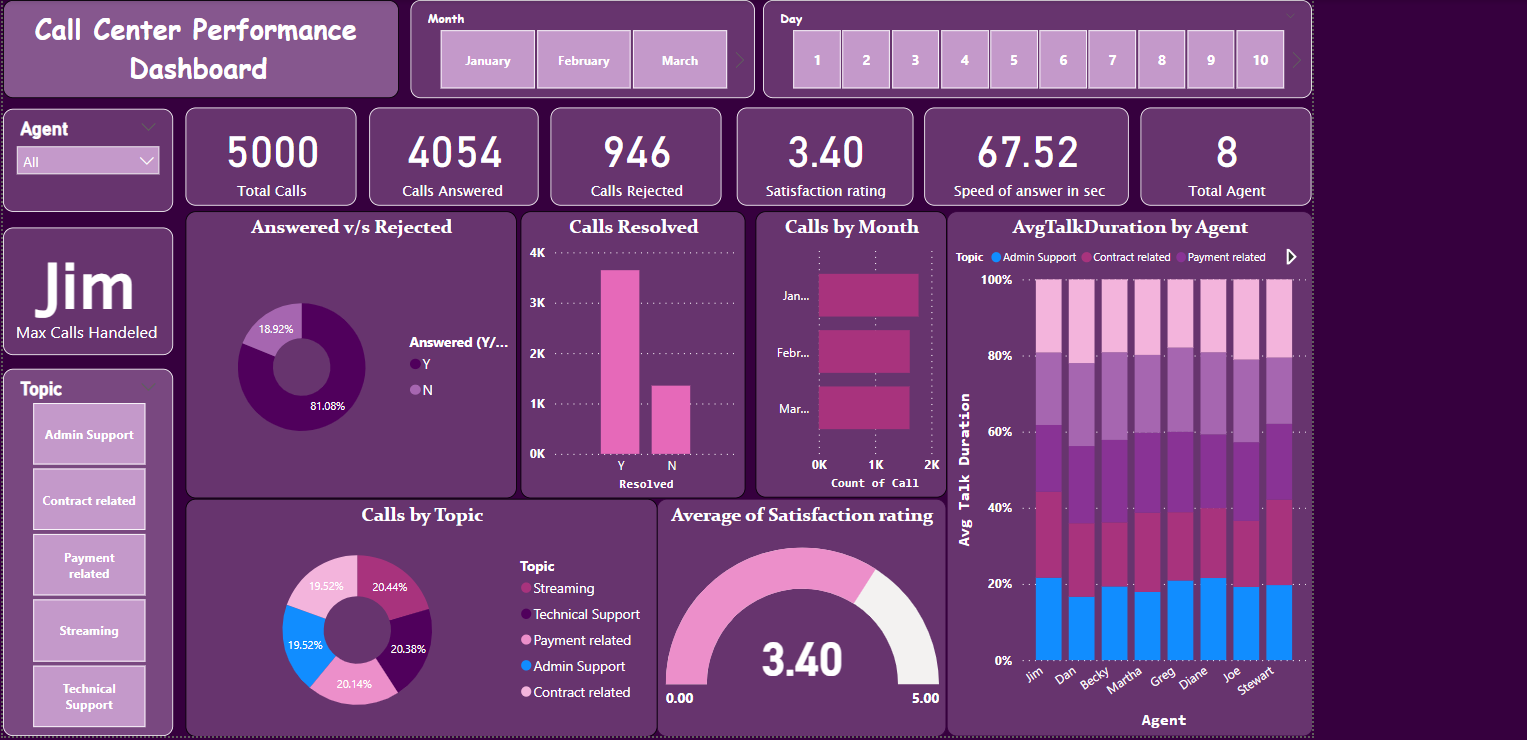

What the dashboard file says about the page in this screenshot:
{"tool":"powerbi","page":{"name":"Page 1","canvas":[1280,720],"ordinal":0},"visuals":[{"type":"textbox","box":[0,0,387.1,95.7],"z":0},{"type":"card","fields":{"Values":["Sheet1.Call Id"]},"box":[178.6,105.7,167.1,95.7],"z":1000},{"type":"card","fields":{"Values":["Sheet1.Agent"]},"box":[1112.9,105.7,167.1,95.7],"z":2000},{"type":"card","fields":{"Values":["Sheet1.Satisfaction rating"]},"box":[717.1,105.7,172.9,95.7],"z":3000},{"type":"card","fields":{"Values":["Sheet1.Speed of answer in seconds"]},"box":[901.4,105.7,200,95.7],"z":4000},{"type":"card","fields":{"Values":["Sheet1.Count of Call Id for Y"]},"box":[358.6,105.7,165.7,95.7],"z":5000},{"type":"gauge","fields":{"Y":["Sheet1.Satisfaction rating"]},"box":[639.5,487.2,283.1,232.8],"z":6000},{"type":"pieChart","title":"Answered v/s Rejected ","fields":{"Y":["Sheet1.Answered (Y/N)"],"Category":["Sheet1.Answered (Y/N)"]},"box":[178.2,206.9,346.3,280.2],"z":7000},{"type":"columnChart","title":"Calls Resolved ","fields":{"Category":["Sheet1.Resolved"],"Y":["Sheet1.Call Id"]},"box":[524.6,206.9,211.3,280.2],"z":8000},{"type":"slicer","fields":{"Values":["Sheet1.Topic"]},"box":[0,360.7,166.7,359.3],"z":9000},{"type":"slicer","fields":{"Values":["Sheet1.Agent"]},"box":[0,106.3,166.7,100.6],"z":10000},{"type":"lineChart","title":" Speed of answer by Agent","fields":{"Y":["Sheet1.Speed of answer in seconds"],"Category":["Sheet1.Agent"]},"box":[922.6,206.9,357.8,280.2],"z":11000},{"type":"slicer","fields":{"Values":["Sheet1.Date.Variation.Date Hierarchy.Month"]},"box":[398.6,0,337.1,95.7],"z":12000},{"type":"card","fields":{"Values":["Sheet1.Count of Call Id for N"]},"box":[535.7,105.7,167.1,95.7],"z":13000},{"type":"slicer","fields":{"Values":["Sheet1.Date.Variation.Date Hierarchy.Day"]},"box":[742.9,0,537.1,95.7],"z":14000},{"type":"card","fields":{"Values":["Sheet1.First Agent max per AvgTalkDuration"]},"box":[0,222.8,166.7,125],"z":15000},{"type":"hundredPercentStackedColumnChart","title":"AvgTalkDuration by Agent","fields":{"Category":["Sheet1.Agent"],"Y":["Sheet1.AvgTalkDuration"],"Series":["Sheet1.Topic"]},"box":[922.6,487.2,357.8,232.8],"z":16000},{"type":"pieChart","title":"Calls by Topic","fields":{"Y":["Sheet1.Call Id"],"Category":["Sheet1.Topic"]},"box":[178.2,487.2,461.3,232.8],"z":17000},{"type":"barChart","title":"Calls  by Month","fields":{"Category":["Sheet1.Date.Variation.Date Hierarchy.Month"],"Y":["Sheet1.Call Id"]},"box":[735.8,206.9,186.8,280.2],"z":18000}]}

Visuals, with their boxes in screenshot pixels (x1, y1, x2, y2):
textbox: x1=4, y1=0, x2=396, y2=93
card - Sheet1.Call Id: x1=185, y1=103, x2=354, y2=200
card - Sheet1.Agent: x1=1131, y1=103, x2=1301, y2=200
card - Sheet1.Satisfaction rating: x1=730, y1=103, x2=906, y2=200
card - Sheet1.Speed of answer in seconds: x1=917, y1=103, x2=1120, y2=200
card - Sheet1.Count of Call Id for Y: x1=367, y1=103, x2=535, y2=200
gauge - Sheet1.Satisfaction rating: x1=652, y1=490, x2=939, y2=725
"Answered v/s Rejected " pieChart: x1=185, y1=206, x2=535, y2=489
"Calls Resolved " columnChart: x1=535, y1=206, x2=750, y2=489
slicer - Sheet1.Topic: x1=4, y1=361, x2=173, y2=725
slicer - Sheet1.Agent: x1=4, y1=104, x2=173, y2=206
" Speed of answer by Agent" lineChart: x1=939, y1=206, x2=1301, y2=489
slicer - Sheet1.Date.Variation.Date Hierarchy.Month: x1=408, y1=0, x2=749, y2=93
card - Sheet1.Count of Call Id for N: x1=547, y1=103, x2=716, y2=200
slicer - Sheet1.Date.Variation.Date Hierarchy.Day: x1=757, y1=0, x2=1301, y2=93
card - Sheet1.First Agent max per AvgTalkDuration: x1=4, y1=222, x2=173, y2=348
"AvgTalkDuration by Agent" hundredPercentStackedColumnChart: x1=939, y1=490, x2=1301, y2=725
"Calls by Topic" pieChart: x1=185, y1=490, x2=652, y2=725
"Calls  by Month" barChart: x1=749, y1=206, x2=939, y2=489
